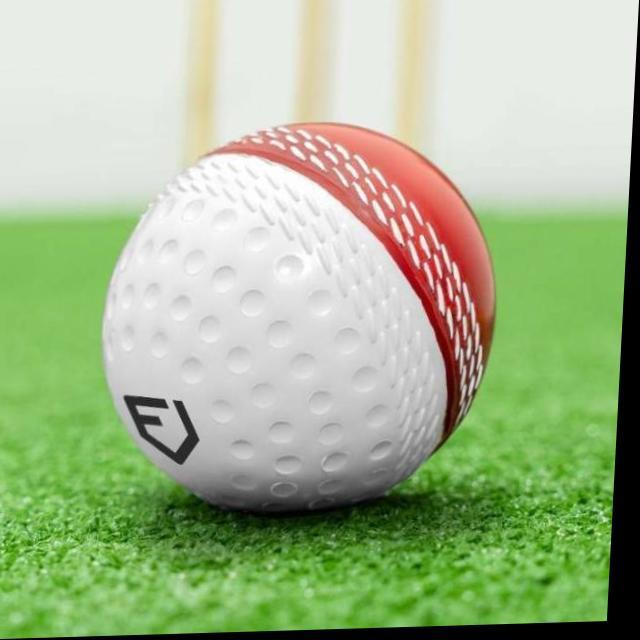cricket ball: (105, 125, 499, 517)
